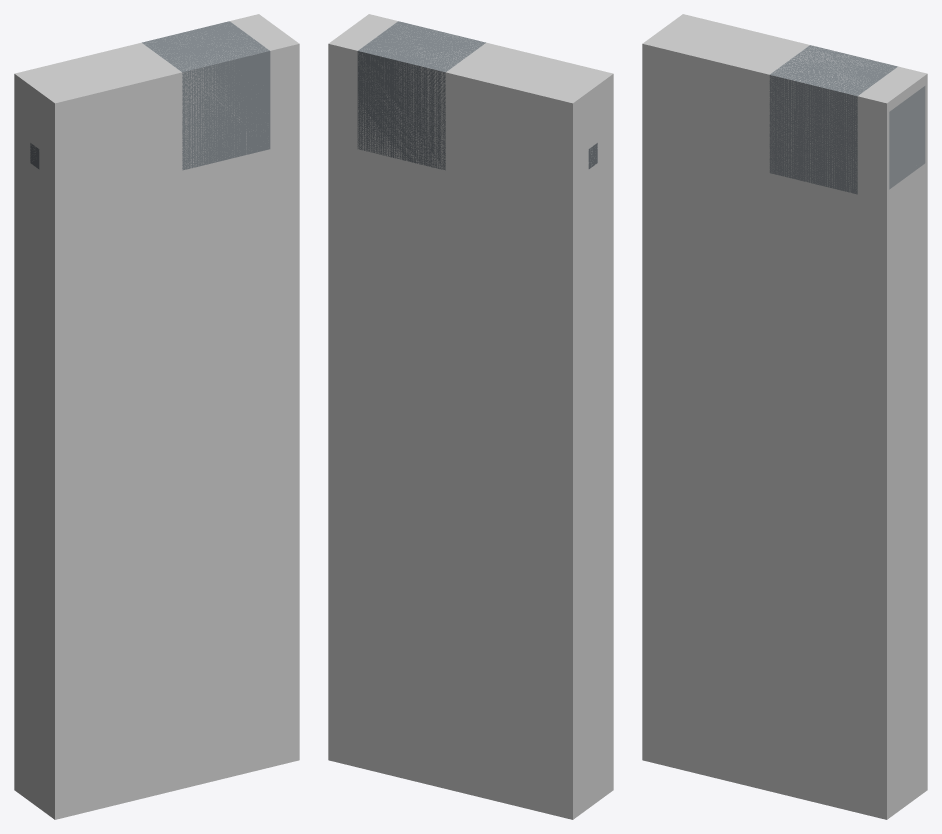
The model's file is FMS_Tool_Hammer.fbx.
3 views of the same model, side by side, from view 1: azimuth 30°, elevation 25°; view 2: azimuth 150°, elevation 25°; view 3: azimuth 330°, elevation 25° (orthographic).
Visible parts, largest first — view 1: FMS_Tool_Hammer_Col, FMS_Tool_Hammer_LOD0; view 2: FMS_Tool_Hammer_Col, FMS_Tool_Hammer_LOD0; view 3: FMS_Tool_Hammer_Col, FMS_Tool_Hammer_LOD0.
Part boxes in pixels (x1,y1,x2,y2): FMS_Tool_Hammer_Col: (14, 14, 299, 819); FMS_Tool_Hammer_LOD0: (30, 21, 270, 170); FMS_Tool_Hammer_Col: (328, 14, 613, 819); FMS_Tool_Hammer_LOD0: (357, 21, 597, 170); FMS_Tool_Hammer_Col: (642, 14, 927, 819); FMS_Tool_Hammer_LOD0: (769, 45, 925, 194).
Size of what is drawn, in the model's own units: 0.125 by 0.35 by 0.036.
1 material, 1 textured.
